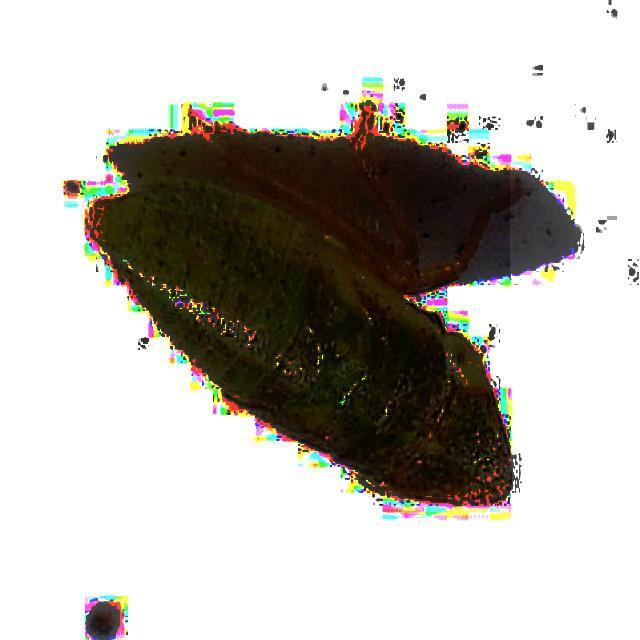green-leafhopper: (90, 105, 510, 506)
